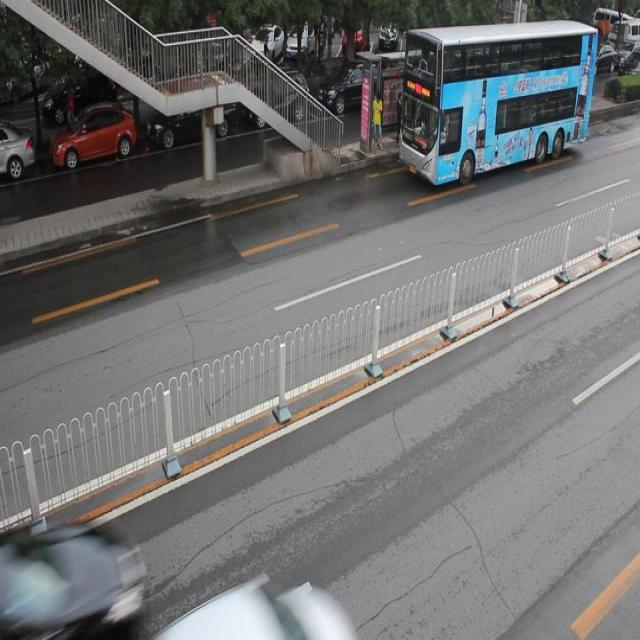car: (1, 518, 144, 640), (157, 577, 356, 640), (50, 105, 136, 172), (145, 93, 236, 151), (314, 62, 389, 123), (243, 72, 308, 129), (1, 124, 34, 181)
van: (396, 17, 598, 190)
